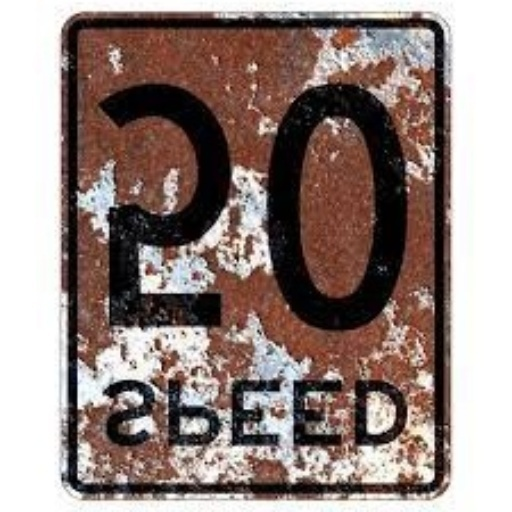Speed limit: (78, 32, 448, 489)
